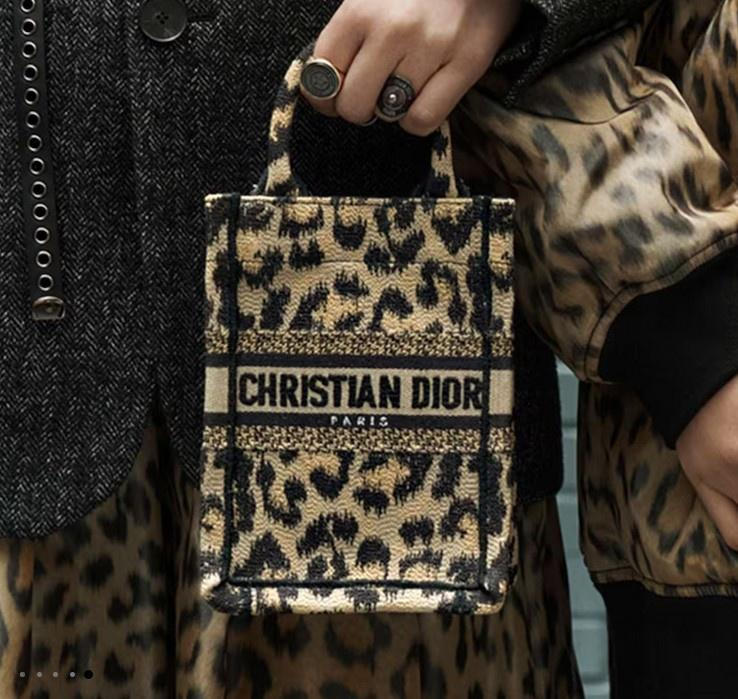DIOR: (229, 335, 488, 445)
